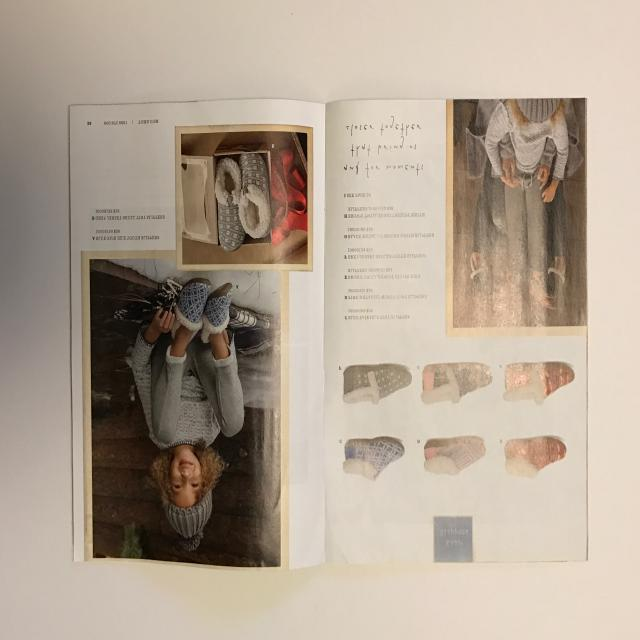paper: (55, 85, 610, 575)
